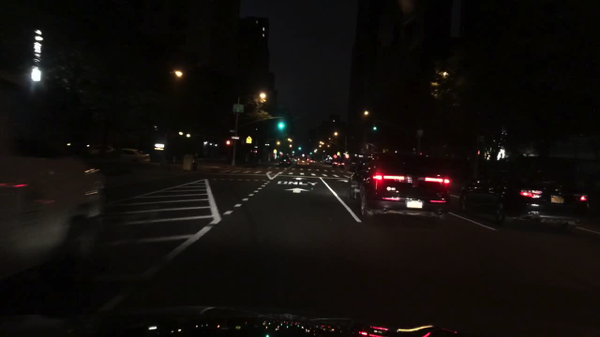car: (0, 145, 108, 284), (457, 154, 588, 232), (344, 146, 454, 227), (107, 148, 150, 164), (330, 158, 345, 169), (278, 156, 292, 167), (297, 156, 310, 167)
traffic light: (275, 119, 286, 132), (369, 124, 377, 134), (225, 139, 233, 146), (297, 146, 301, 152)
traffic sign: (233, 103, 243, 113), (245, 136, 253, 144)
